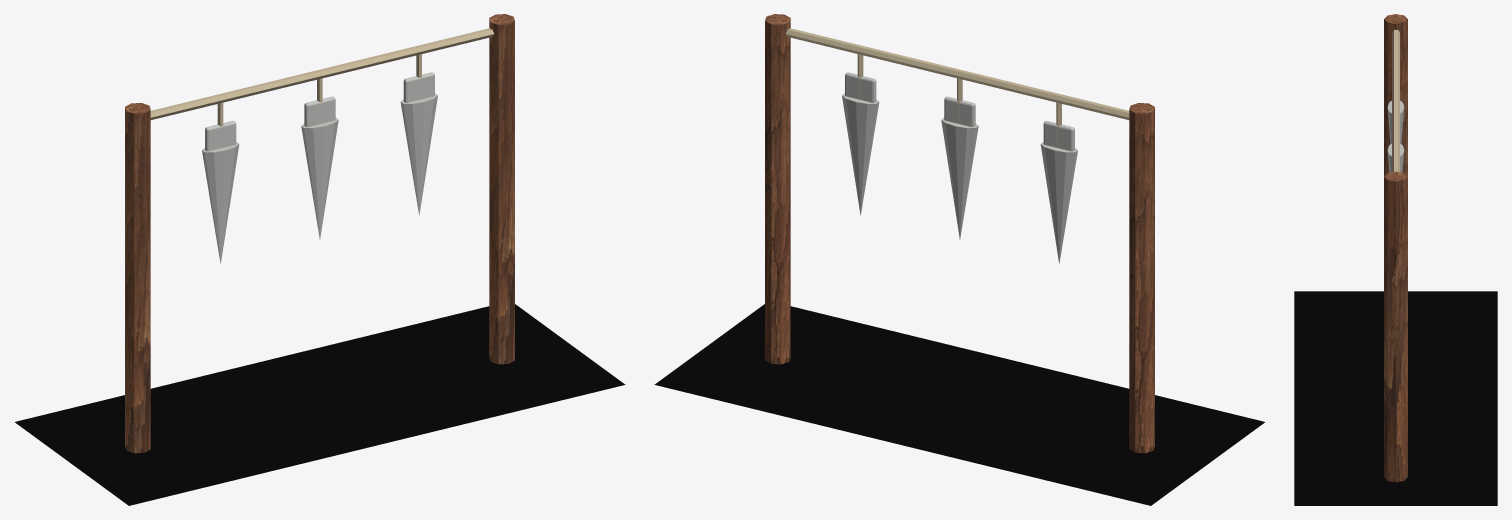
Rendered from dried-fish.glb.
3 views of the same model, side by side, from view 1: azimuth 30°, elevation 25°; view 2: azimuth 150°, elevation 25°; view 3: azimuth 270°, elevation 25° (orthographic). The views are drawn at different scales.
Parts seen in each view (by area): view 1: ContactShadow, post, post.001, line, fishBody.001, fishBody, fishBody.002, fishTail.002, fishTail, fishTail.001; view 2: ContactShadow, post, post.001, line, fishBody.001, fishBody, fishBody.002, fishTail, fishTail.002, fishTail.001; view 3: ContactShadow, post.001, post, line, fishBody.
Part boxes in pixels (x1,y1,x2,y2): ContactShadow: [15, 304, 625, 505]; post: [125, 103, 150, 453]; post.001: [489, 14, 514, 364]; line: [150, 28, 494, 119]; fishBody.001: [301, 117, 338, 239]; fishBody: [202, 142, 239, 263]; fishBody.002: [400, 93, 437, 215]; fishTail.002: [403, 72, 434, 102]; fishTail: [205, 121, 236, 151]; fishTail.001: [304, 96, 335, 126]; ContactShadow: [654, 304, 1264, 505]; post: [1129, 103, 1154, 453]; post.001: [765, 14, 790, 364]; line: [785, 28, 1129, 119]; fishBody.001: [941, 117, 978, 239]; fishBody: [1040, 142, 1077, 263]; fishBody.002: [842, 93, 879, 215]; fishTail: [1043, 121, 1074, 151]; fishTail.002: [845, 72, 876, 102]; fishTail.001: [944, 96, 975, 126]; ContactShadow: [1294, 291, 1497, 505]; post.001: [1384, 171, 1407, 482]; post: [1384, 14, 1407, 175]; line: [1392, 29, 1399, 171]; fishBody: [1387, 100, 1404, 143].
Bounding box in the file's own units: 1.5 × 1 × 0.6.
5 materials, 2 textured.
